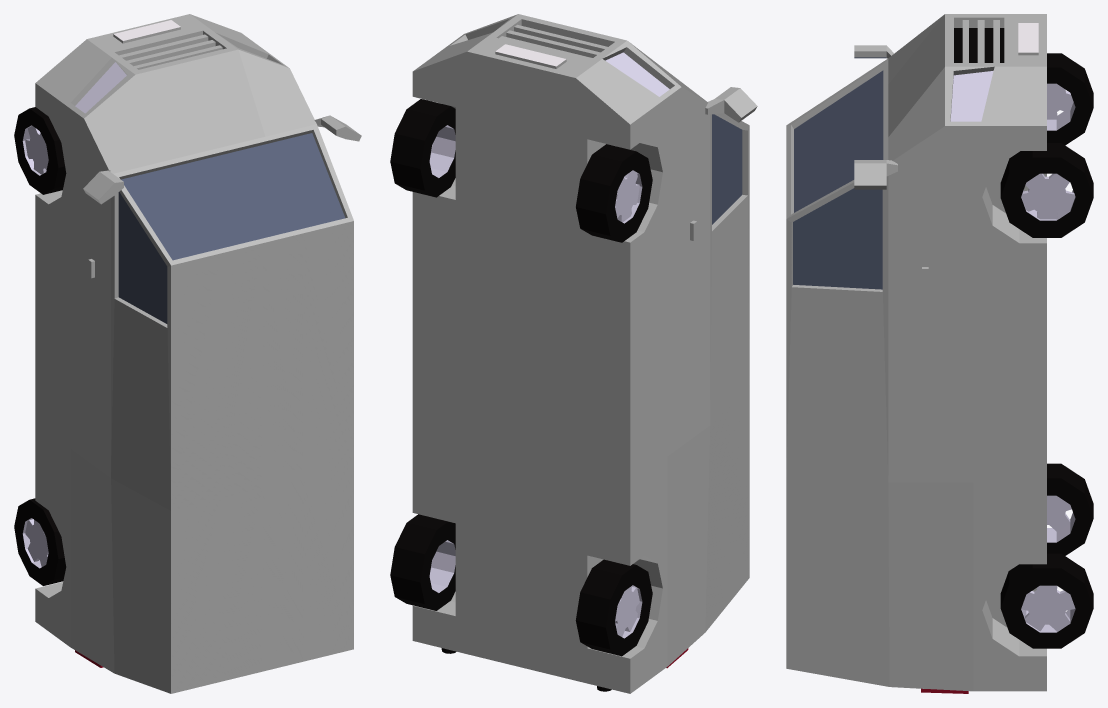
Rendered from Van.glb.
The picture shows the model from 3 angles, left to right: view 1: azimuth 30°, elevation 25°; view 2: azimuth 150°, elevation 25°; view 3: azimuth 270°, elevation 25°; orthographic projection. The views are drawn at different scales.
Parts seen in each view (by area): view 1: Van_body_dark_blue_0, Van_windows_0, Van_wheel_front_left, Van_wheel_rear_left, Van_headlights_0, Van_body_white_0; view 2: Van_body_dark_blue_0, Van_wheel_front_left, Van_wheel_rear_left, Van_wheel_front_right, Van_wheel_rear_right, Van_windows_0, Van_headlights_0, Van_body_white_0; view 3: Van_body_dark_blue_0, Van_windows_0, Van_wheel_front_right, Van_wheel_rear_right, Van_wheel_front_left, Van_wheel_rear_left, Van_headlights_0, Van_body_black_0, Van_body_white_0.
Boxes of the visible parts, <box> form: Van_body_dark_blue_0: <box>35,14,361,693</box>; Van_windows_0: <box>118,133,345,323</box>; Van_wheel_front_left: <box>14,107,66,194</box>; Van_wheel_rear_left: <box>14,498,66,585</box>; Van_headlights_0: <box>75,62,126,113</box>; Van_body_white_0: <box>114,20,180,40</box>; Van_body_dark_blue_0: <box>412,14,757,693</box>; Van_wheel_front_left: <box>576,144,652,242</box>; Van_wheel_rear_left: <box>575,559,652,656</box>; Van_wheel_front_right: <box>390,99,455,197</box>; Van_wheel_rear_right: <box>390,514,455,610</box>; Van_windows_0: <box>712,114,742,224</box>; Van_headlights_0: <box>605,52,669,96</box>; Van_body_white_0: <box>495,44,566,66</box>; Van_body_dark_blue_0: <box>786,14,1046,691</box>; Van_windows_0: <box>793,57,886,289</box>; Van_wheel_front_right: <box>1000,143,1093,237</box>; Van_wheel_rear_right: <box>1000,553,1093,648</box>; Van_wheel_front_left: <box>1047,53,1093,145</box>; Van_wheel_rear_left: <box>1047,463,1093,555</box>; Van_headlights_0: <box>950,71,993,121</box>; Van_body_black_0: <box>954,28,1004,62</box>; Van_body_white_0: <box>1018,23,1038,52</box>.
Bounding box in the file's own units: 2.81 × 5.91 × 2.71.
